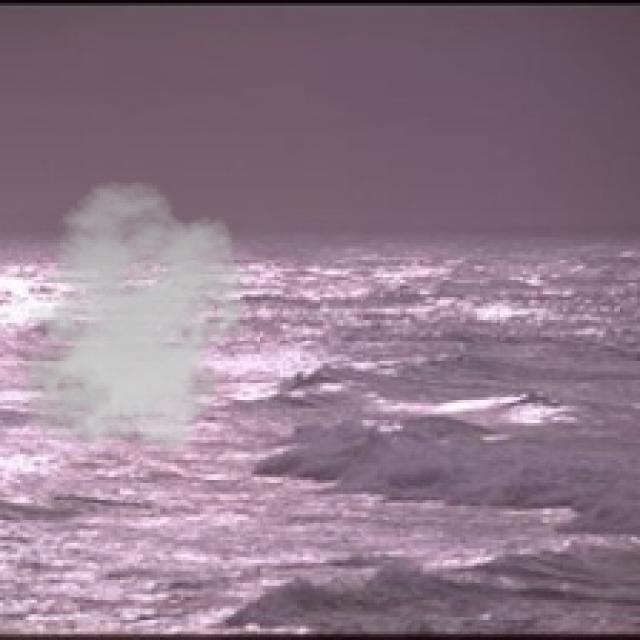Smoke: (12, 180, 255, 463)
